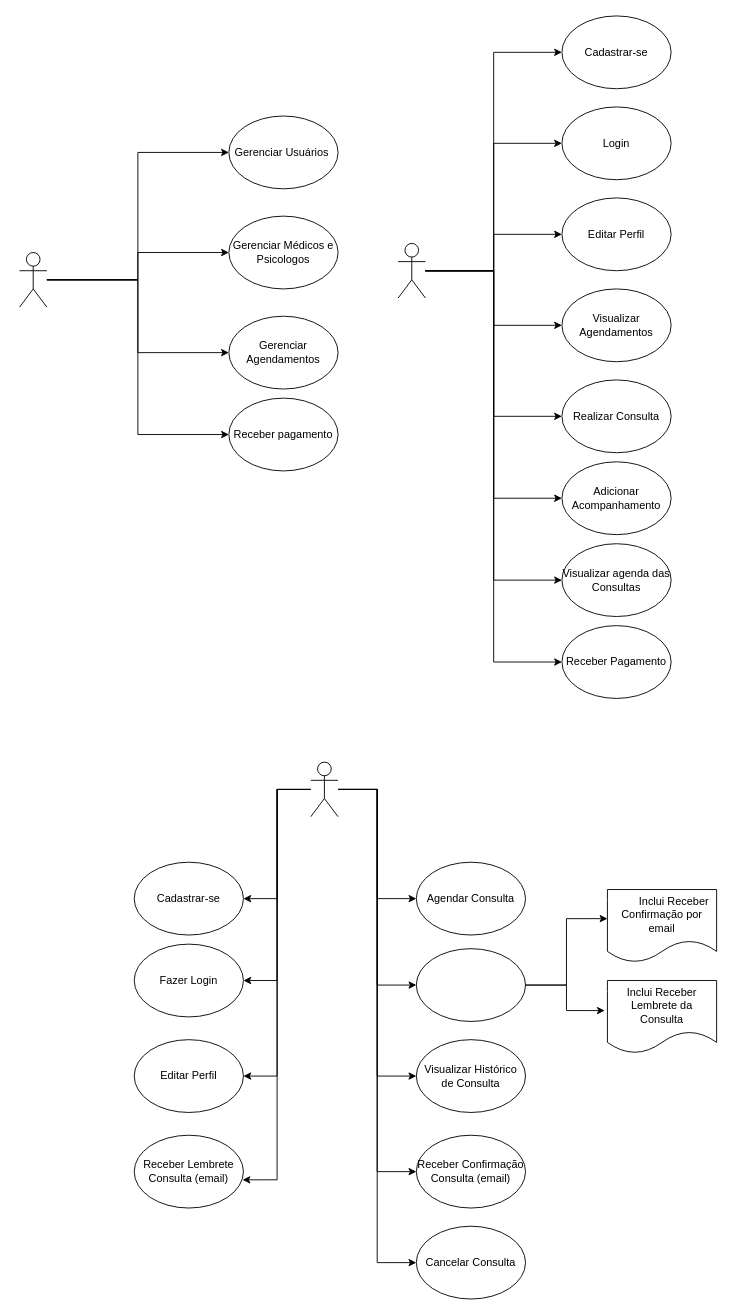
This 733x1315 diagram has some shape labels left out. The shapes that lost their labels are listed below. From the top down, each one's centre as x and y in pixels, then its label:
At (33,279): "ADMIN".
At (411,270): "Médico".
At (324,789): "Usuário".
At (470,984): "Pagar Consulta".
